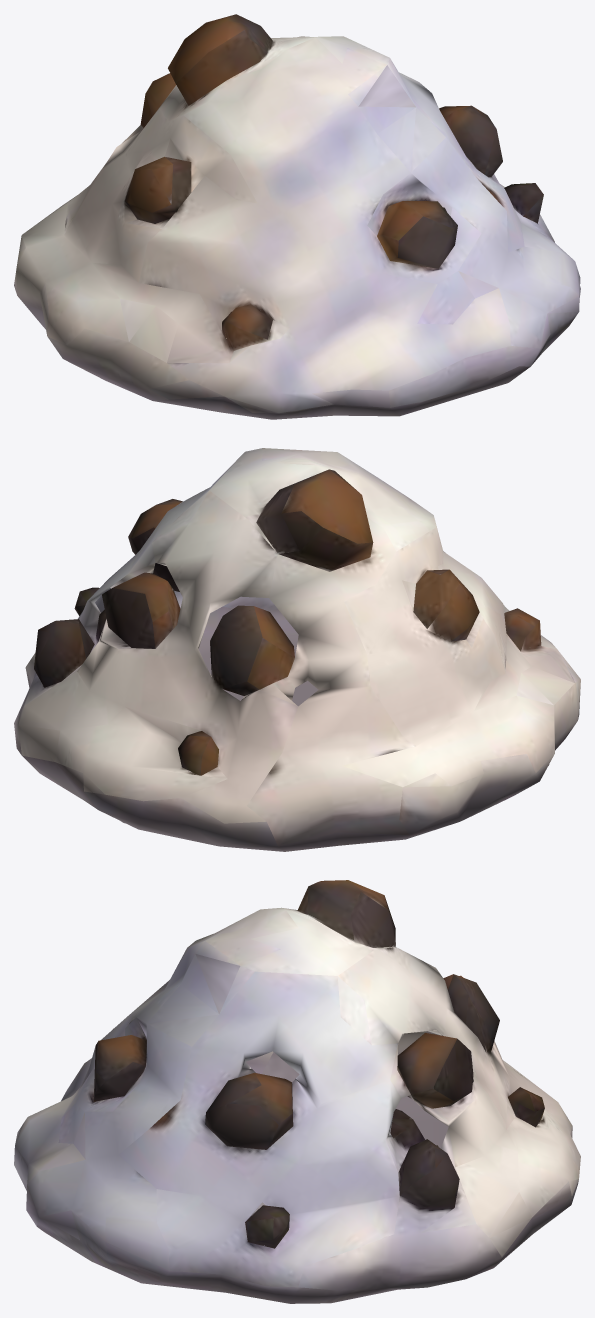
Rendered from lg-snow-drift.glb.
The picture shows the model from 3 angles, top to bottom: view 1: azimuth 30°, elevation 25°; view 2: azimuth 150°, elevation 25°; view 3: azimuth 270°, elevation 25°; orthographic projection.
Parts seen in each view (by area): view 1: geometry_0; view 2: geometry_0; view 3: geometry_0.
Part boxes in pixels (<box>): geometry_0: <box>14,14,580,419</box>; geometry_0: <box>14,448,580,851</box>; geometry_0: <box>14,880,580,1303</box>.
Bounding box in the file's own units: 1 × 0.5654 × 0.9904.
1 material, 1 textured.
